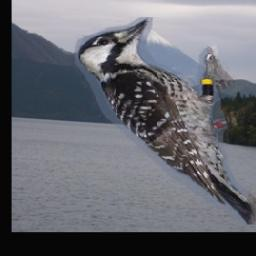Woodpecker: (75, 17, 256, 225)
